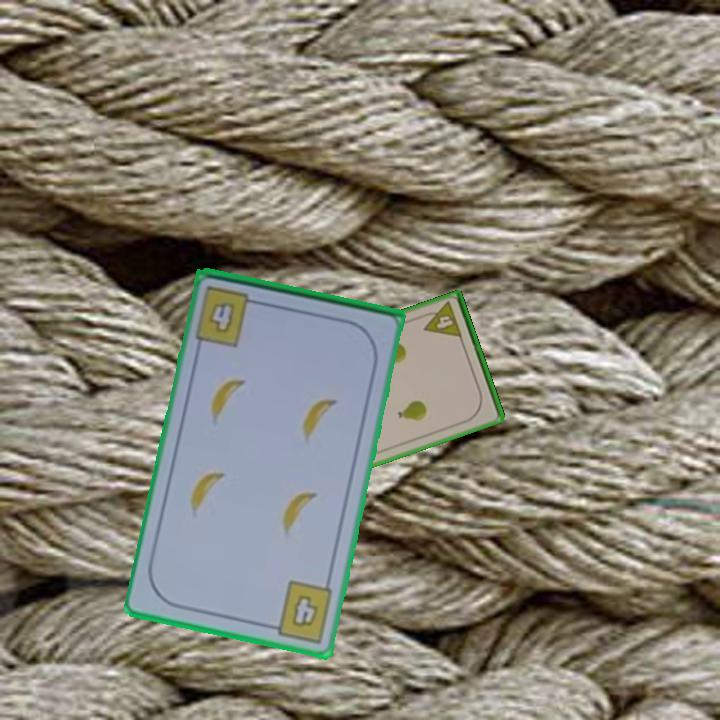4b: (263, 577, 336, 646), (191, 282, 265, 350)
4p: (417, 298, 465, 341)
